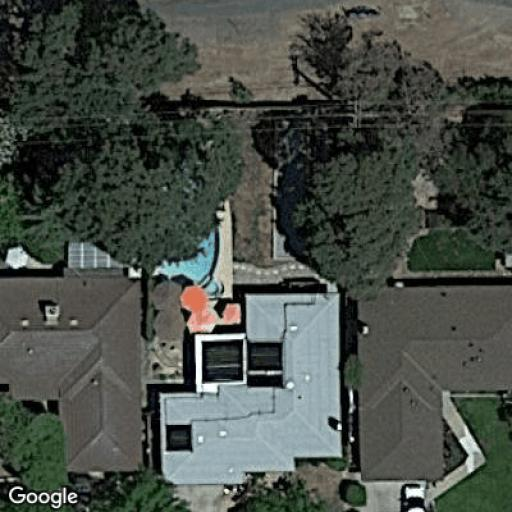solar-panel: (247, 340, 284, 390), (164, 424, 195, 454)
